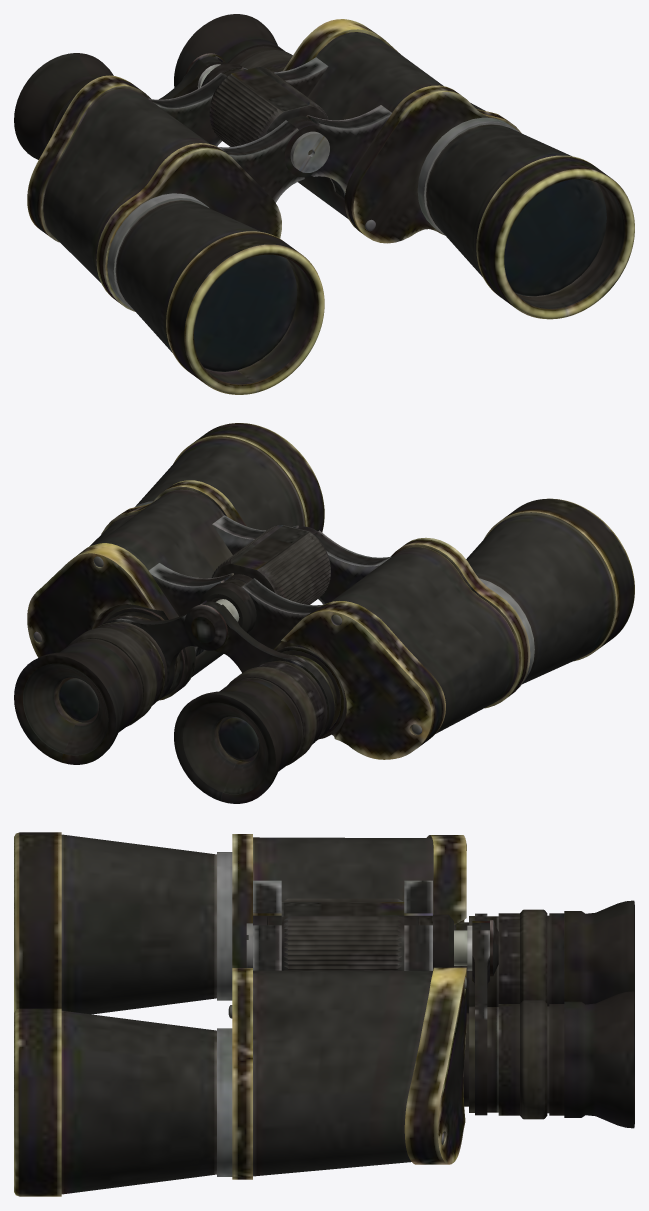
The model's file is vintage_binocular.gltf.
3 renders of one model, top to bottom at view 1: azimuth 30°, elevation 25°; view 2: azimuth 150°, elevation 25°; view 3: azimuth 270°, elevation 25°, orthographic. The views are drawn at different scales.
Parts seen in each view (by area): view 1: vintage_binocular_right_prism, vintage_binocular_left_prism, vintage_binocular_right_lens, vintage_binocular_focus, vintage_binocular_left_lens, vintage_binocular_middle; view 2: vintage_binocular_right_prism, vintage_binocular_left_prism, vintage_binocular_left_lens, vintage_binocular_right_lens, vintage_binocular_focus, vintage_binocular_diopter, vintage_binocular_eye_relief, vintage_binocular_middle; view 3: vintage_binocular_left_prism, vintage_binocular_right_prism, vintage_binocular_left_lens, vintage_binocular_right_lens, vintage_binocular_focus, vintage_binocular_diopter, vintage_binocular_middle, vintage_binocular_eye_relief.
Part boxes in pixels (bbox=[...]): vintage_binocular_right_prism: bbox=[27, 73, 324, 394]; vintage_binocular_left_prism: bbox=[223, 19, 634, 319]; vintage_binocular_right_lens: bbox=[14, 53, 224, 159]; vintage_binocular_focus: bbox=[209, 67, 328, 146]; vintage_binocular_left_lens: bbox=[174, 14, 292, 87]; vintage_binocular_middle: bbox=[201, 63, 329, 172]; vintage_binocular_right_prism: bbox=[228, 498, 634, 759]; vintage_binocular_left_prism: bbox=[27, 423, 324, 700]; vintage_binocular_left_lens: bbox=[14, 600, 217, 764]; vintage_binocular_right_lens: bbox=[174, 601, 336, 803]; vintage_binocular_focus: bbox=[211, 525, 330, 604]; vintage_binocular_diopter: bbox=[227, 661, 324, 765]; vintage_binocular_eye_relief: bbox=[184, 599, 239, 650]; vintage_binocular_middle: bbox=[200, 582, 256, 633]; vintage_binocular_left_prism: bbox=[14, 915, 466, 1196]; vintage_binocular_right_prism: bbox=[14, 832, 466, 1018]; vintage_binocular_left_lens: bbox=[463, 923, 634, 1128]; vintage_binocular_right_lens: bbox=[456, 900, 634, 1012]; vintage_binocular_focus: bbox=[281, 898, 404, 970]; vintage_binocular_diopter: bbox=[498, 909, 547, 1003]; vintage_binocular_middle: bbox=[246, 914, 453, 970]; vintage_binocular_eye_relief: bbox=[454, 920, 498, 976].
Bounding box in the file's own units: 0.194 × 0.0684 × 0.1992.
